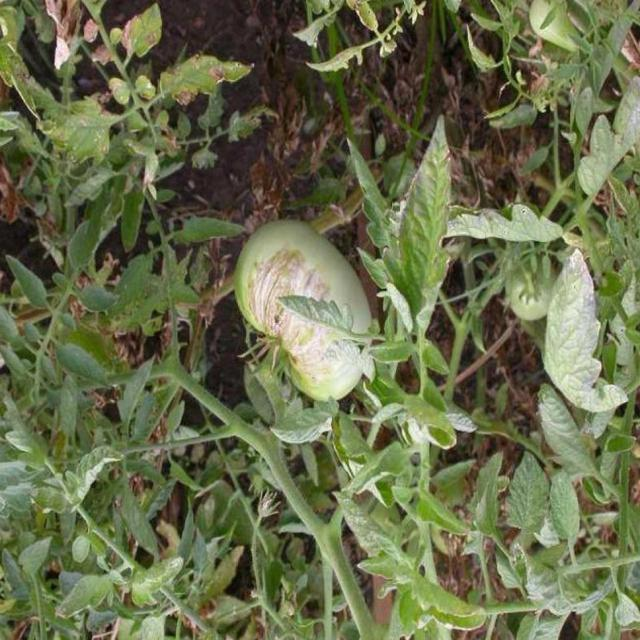Sunscald Fruit: (165, 162, 242, 260)
